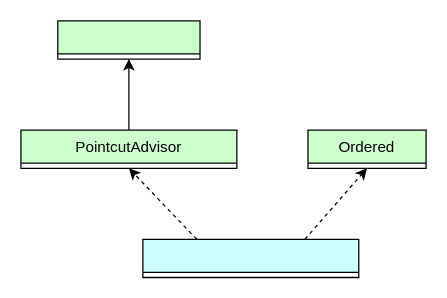
Some shapes in this 447 by 298 pixel diagram are drawn without their labels. Here are the shapes that lost their labels. From the top down, the box of each, then its label:
(57, 20, 200, 59): Advisor
(142, 238, 359, 277): AspectJPointcutAdvisor
